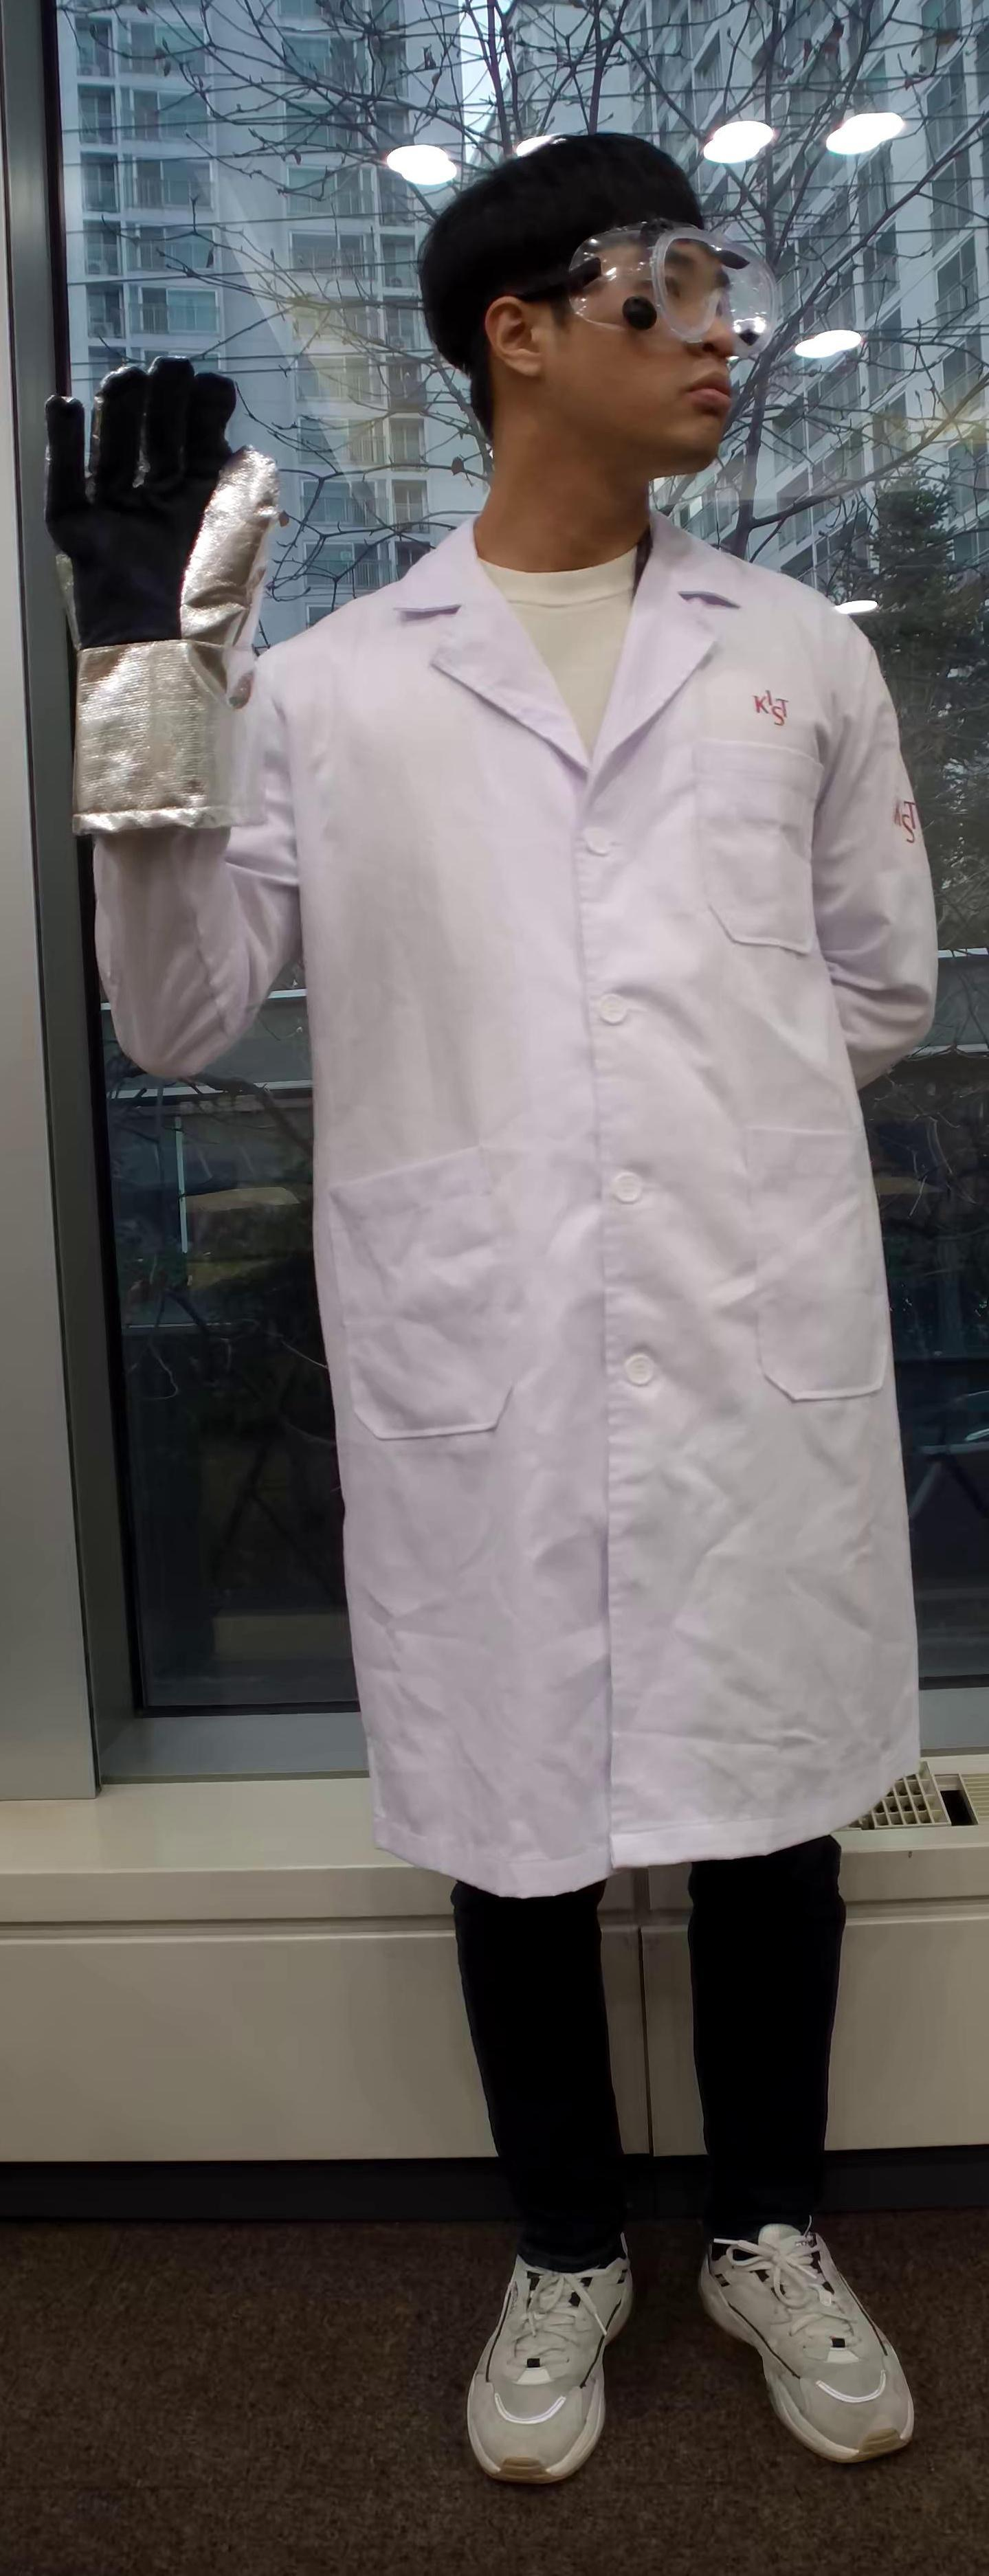lab_coat: (278, 559, 915, 1873)
